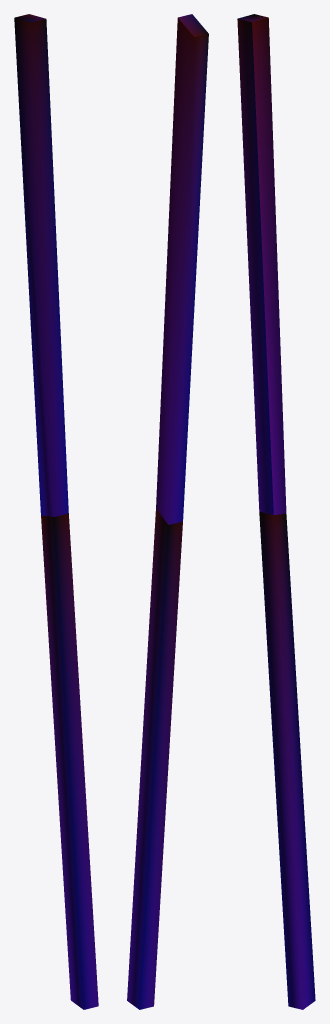
3 renders of one model, left to right at view 1: azimuth 30°, elevation 25°; view 2: azimuth 210°, elevation 25°; view 3: azimuth 330°, elevation 25°, orthographic. The views are drawn at different scales.
Parts seen in each view (by area): view 1: part; view 2: part; view 3: part.
Part boxes in pixels (bbox=[...]): part: bbox=[14, 14, 98, 1009]; part: bbox=[127, 14, 208, 1009]; part: bbox=[237, 14, 315, 1009].
Bounding box in the file's own units: 1170 × 16640 × 520.
